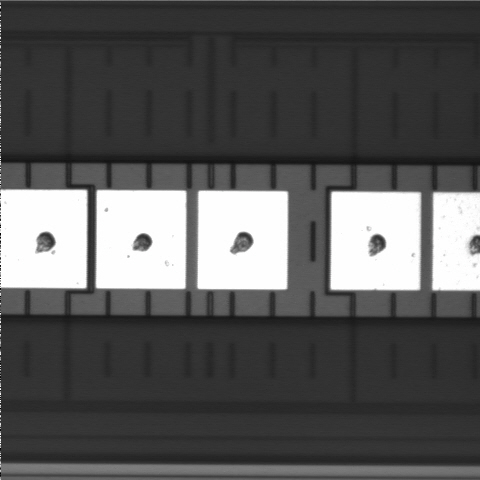pad: (197, 191, 288, 290), (96, 190, 186, 289), (331, 192, 421, 290)
